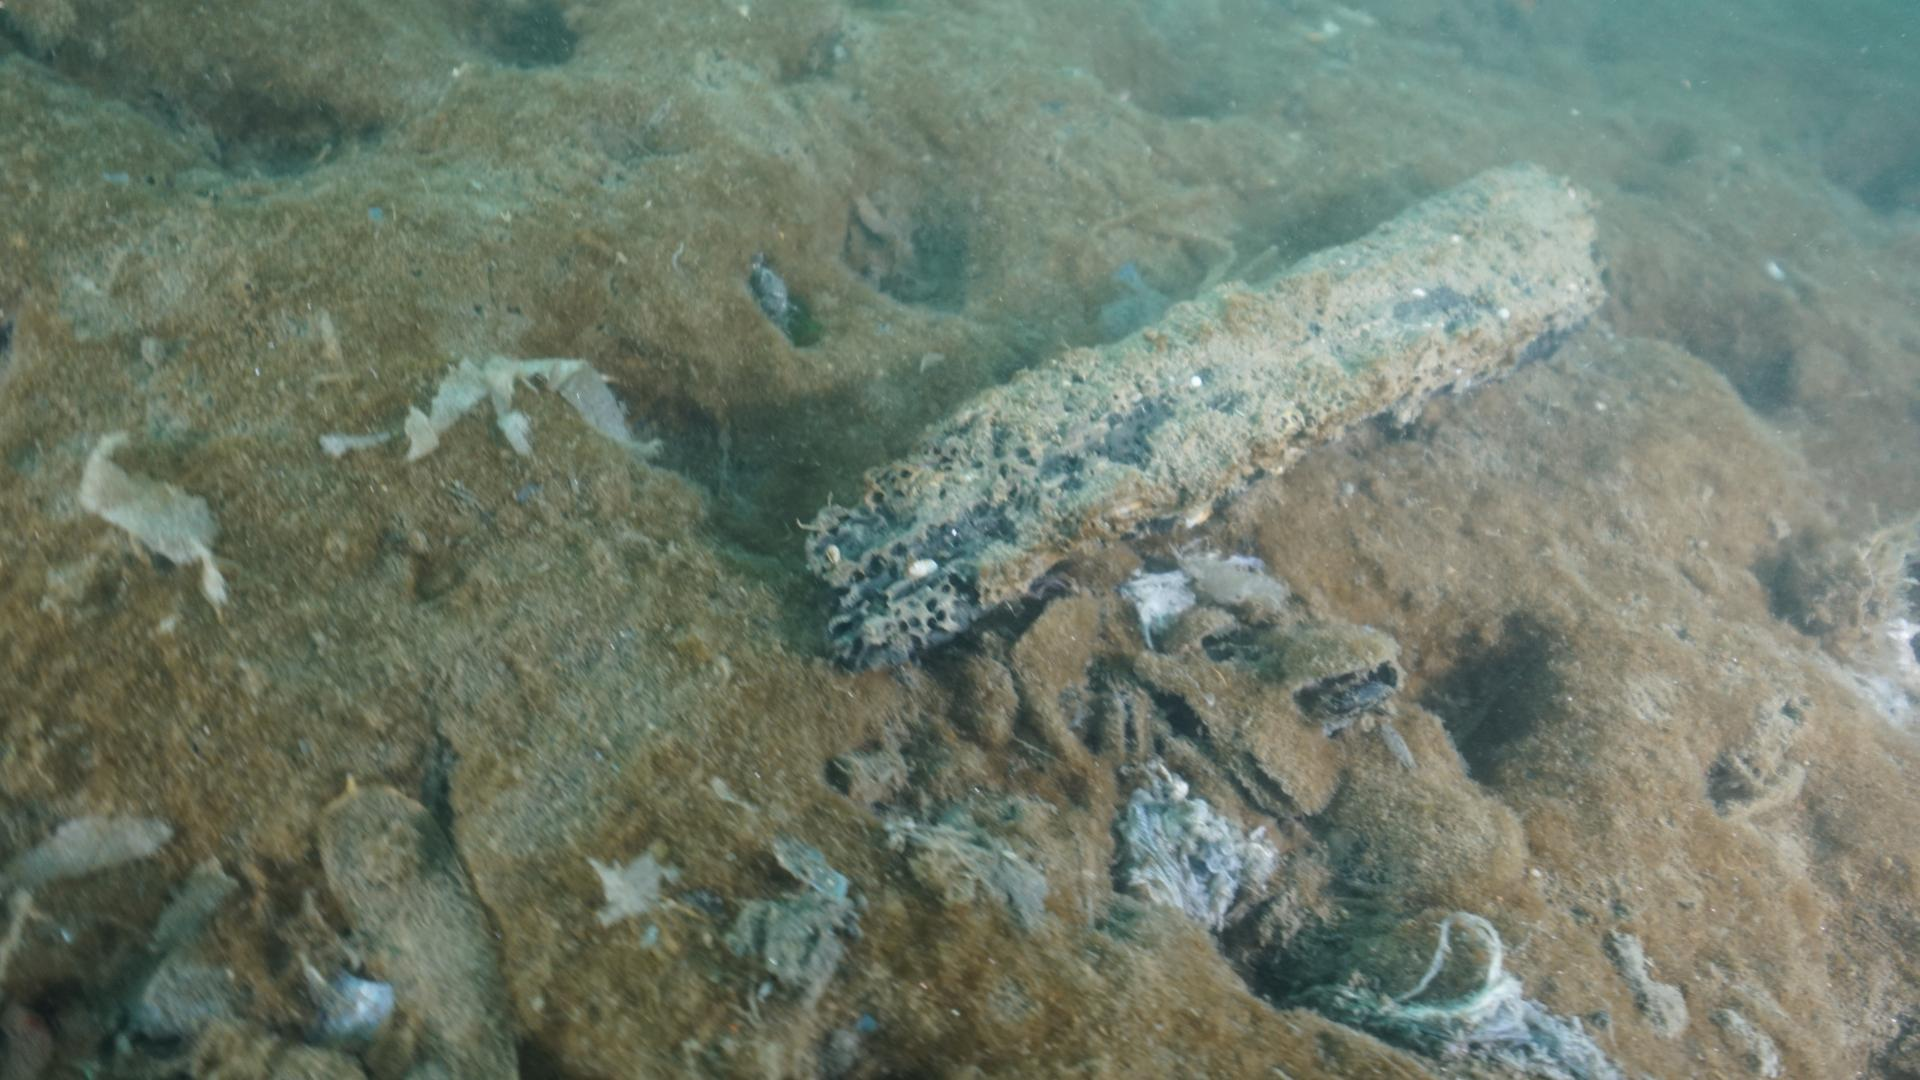wood: (799, 157, 1607, 682)
